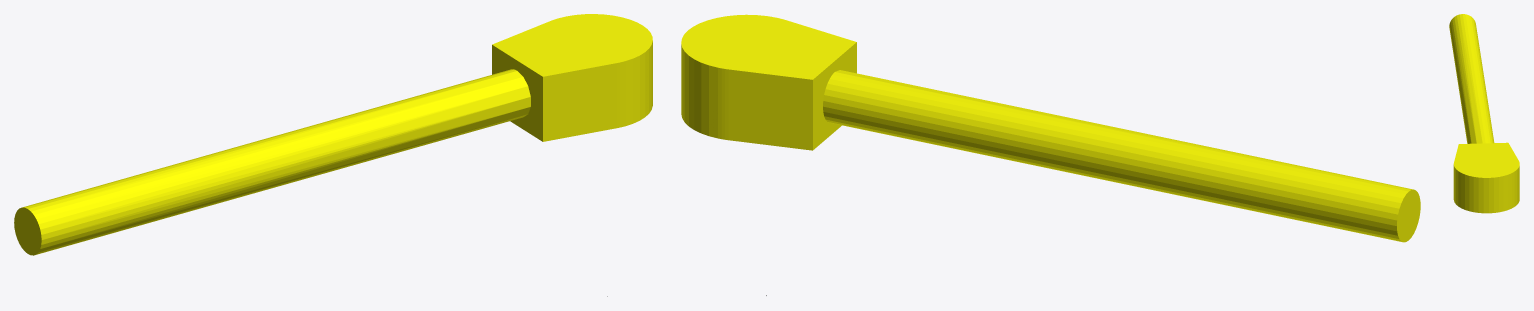
3 renders of one model, left to right at view 1: azimuth 30°, elevation 25°; view 2: azimuth 150°, elevation 25°; view 3: azimuth 270°, elevation 25°, orthographic. The views are drawn at different scales.
Parts seen in each view (by area): view 1: node; view 2: node; view 3: node.
Part boxes in pixels (bbox=[...]): node: bbox=[14, 14, 652, 296]; node: bbox=[681, 14, 1420, 295]; node: bbox=[1449, 14, 1519, 213].
Bounding box in the file's own units: 597 × 218 × 105.
